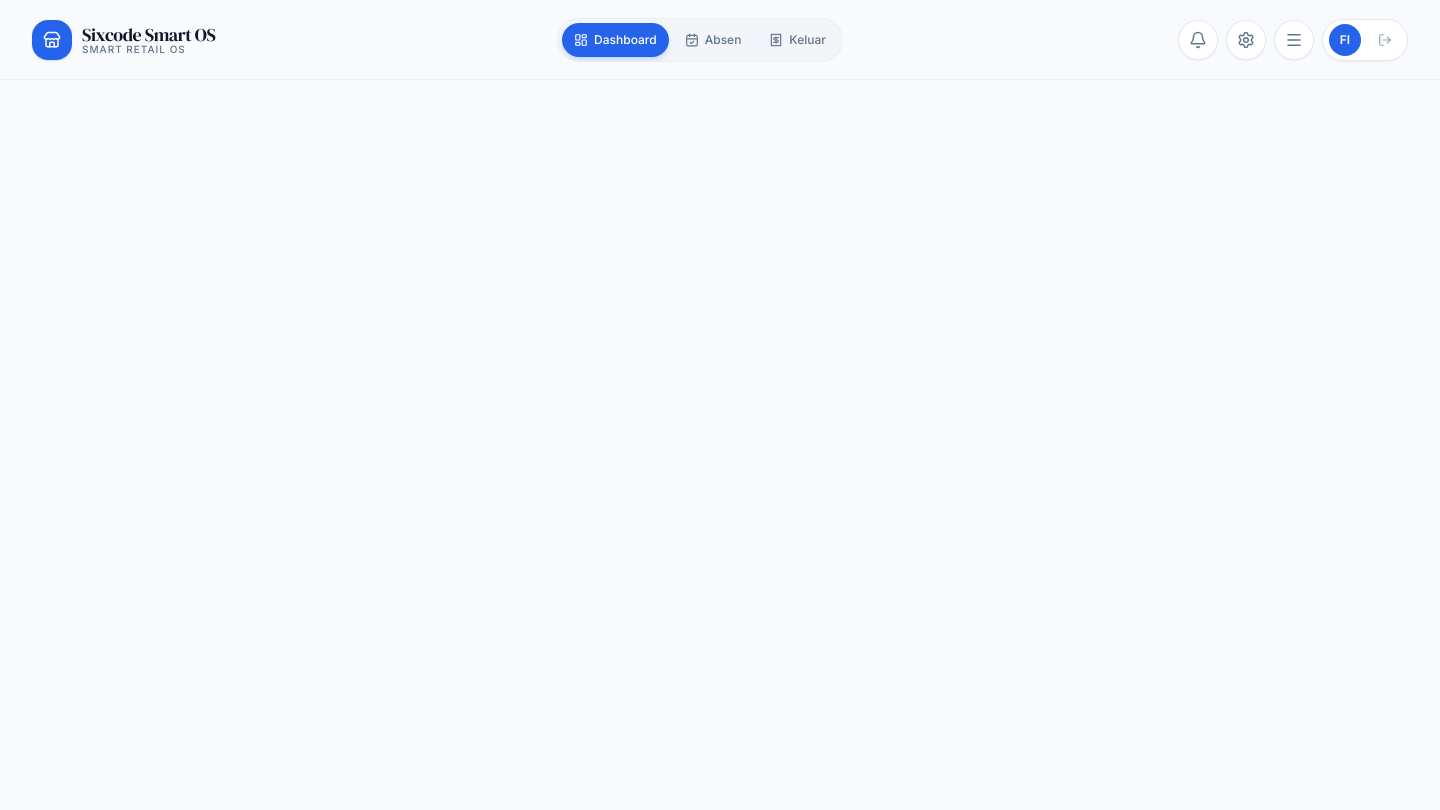
Test: Navbar finance-section access filtering › Admin/Keuangan sees finance entries and pengeluaran without boss settings
The image size is (1440, 810).
Click the button named "Menu cepat". click: (1294, 40)
box: [1274,20,1314,60]
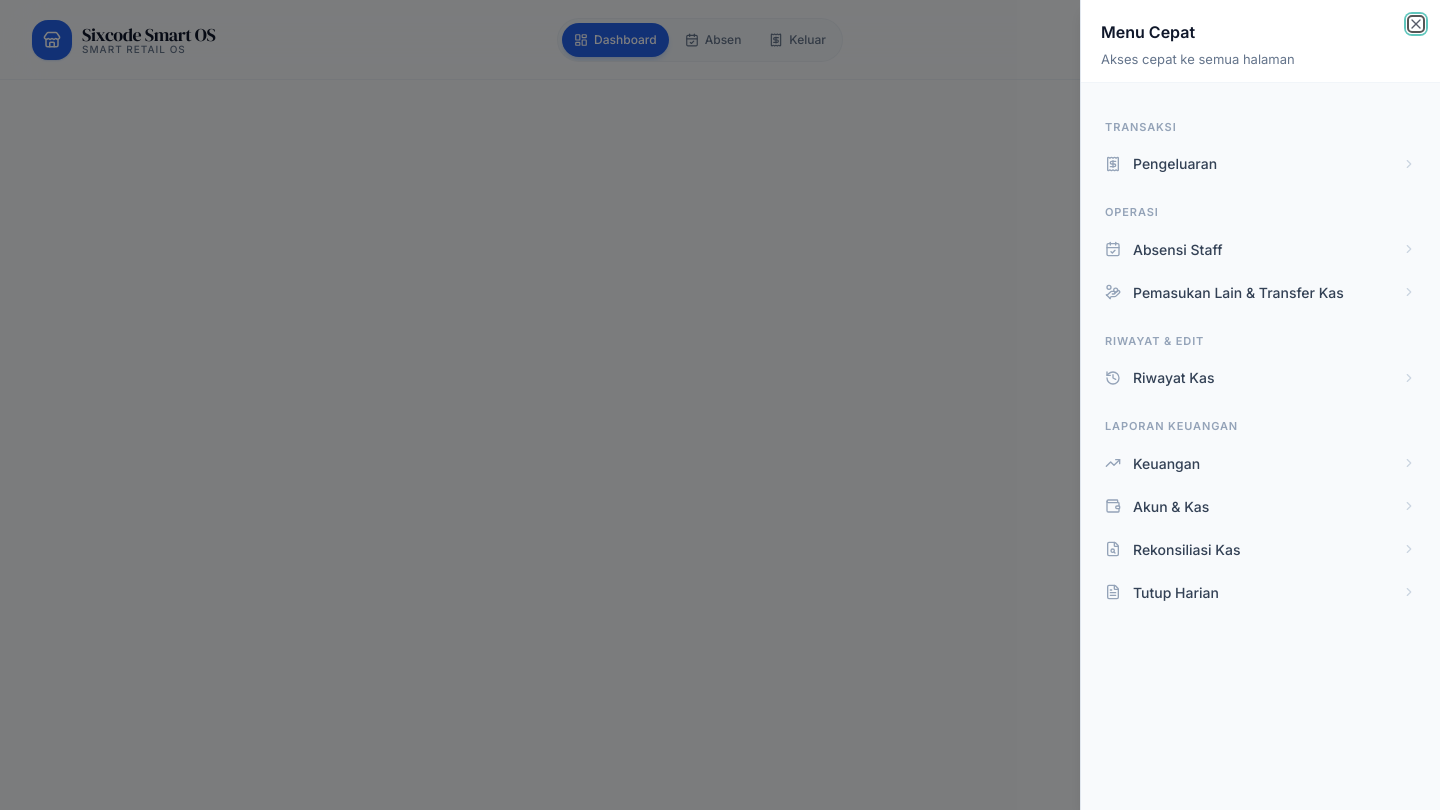
Result: the dialog is shown at [1080,0,1439,809]
Result: the heading "Laporan Keuangan" is shown at [1105,419,1238,433]
Result: the text "Tutup Harian" is shown at [1133,584,1219,600]
